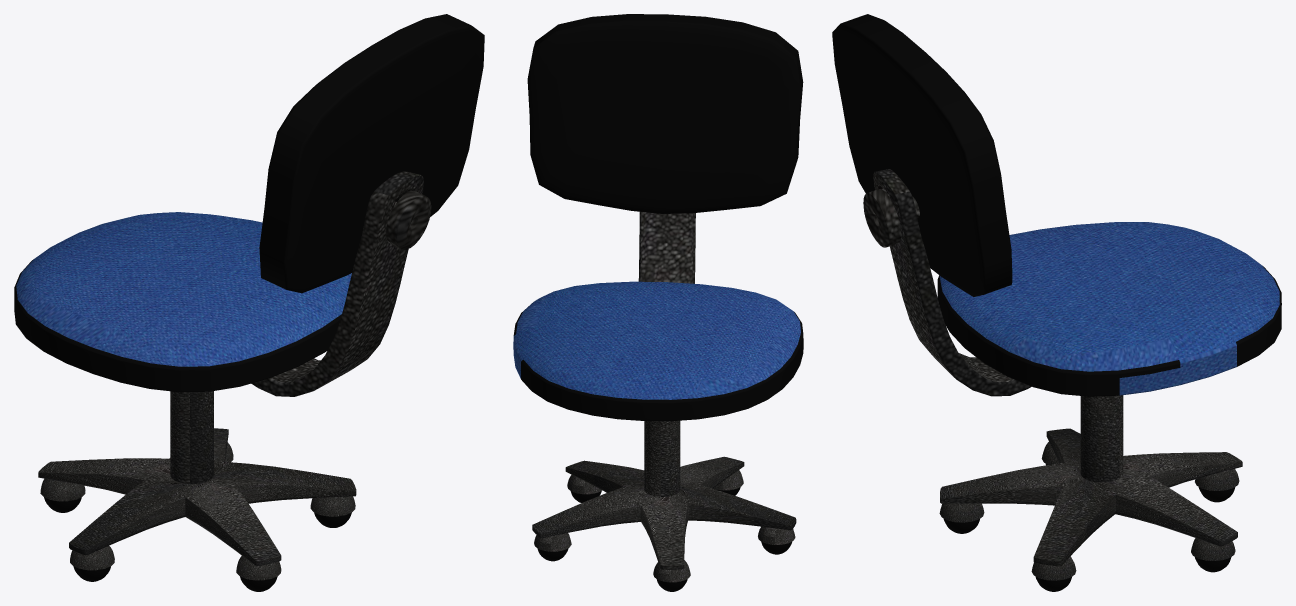
Rendered from Silla.obj.
3 views of the same model, side by side, from view 1: azimuth 30°, elevation 25°; view 2: azimuth 150°, elevation 25°; view 3: azimuth 270°, elevation 25° (orthographic). The views are drawn at different scales.
Visible parts, largest first — view 1: polySurface55; view 2: polySurface55; view 3: polySurface55.
Boxes of the visible parts, <box> form: polySurface55: <box>14,14,484,591</box>; polySurface55: <box>513,14,803,591</box>; polySurface55: <box>832,14,1281,591</box>.
Size of the model in its own units: 4.43 by 6.11 by 4.71.
